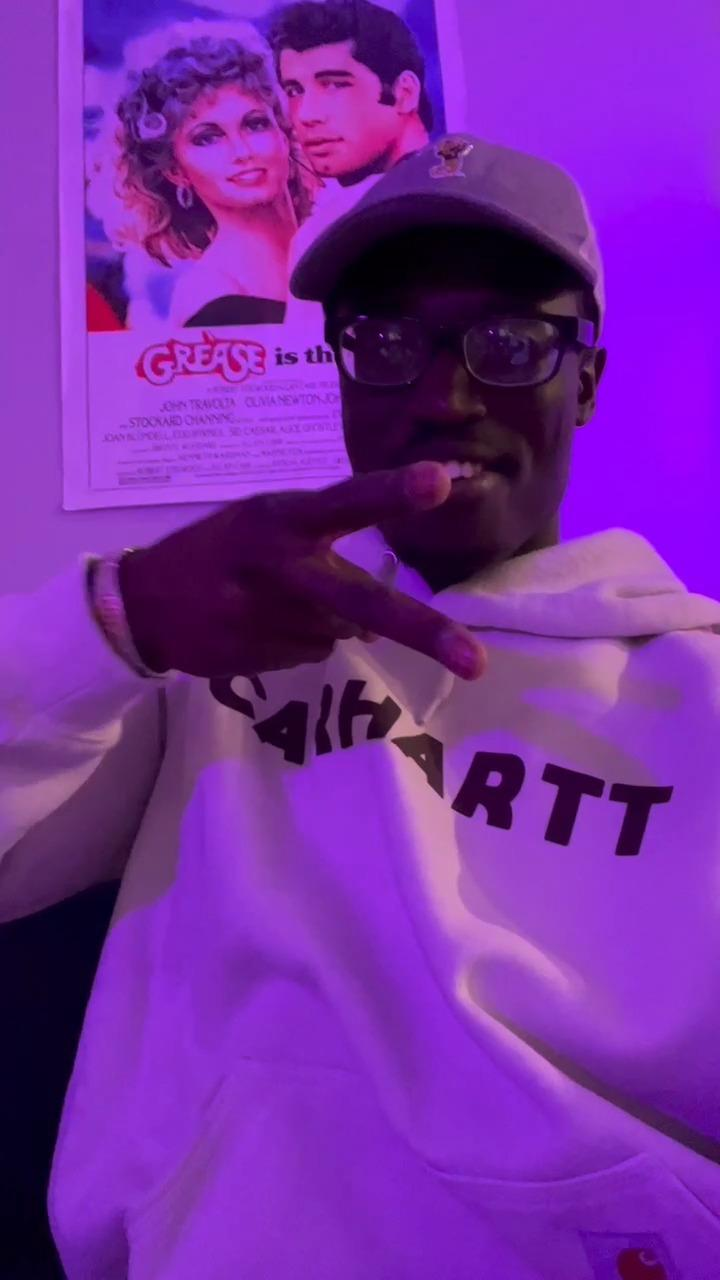Scissors: (116, 454, 488, 688)
